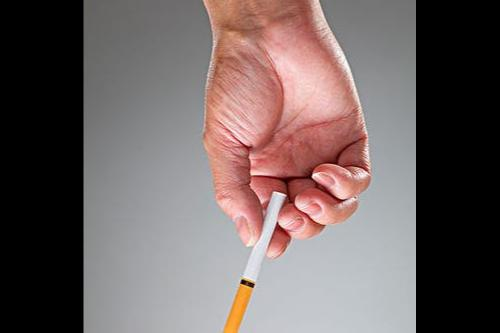Cigarette: (222, 189, 286, 333)
